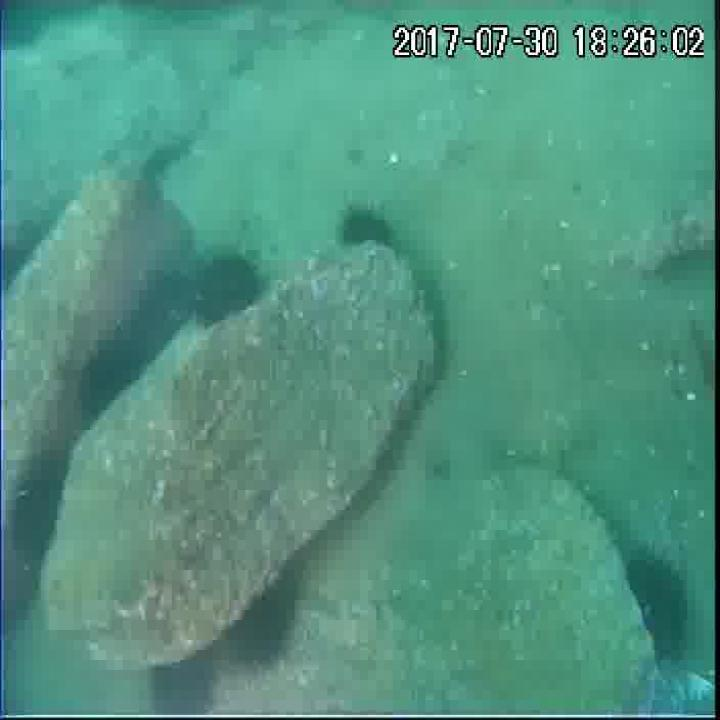echinus: (225, 565, 300, 671), (4, 447, 73, 558), (624, 549, 690, 665), (193, 248, 266, 330), (144, 644, 219, 720), (76, 345, 142, 415), (340, 202, 395, 257)
